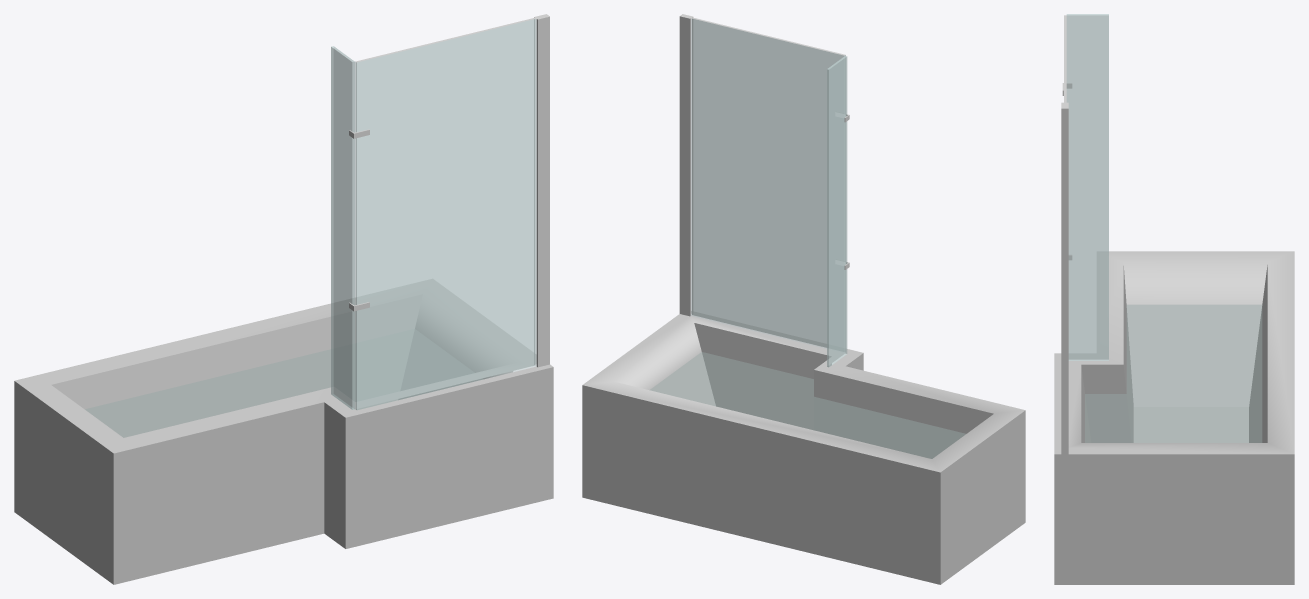
Rendered from sweethome3d-contributions-bath-l-shape-356.glb.
3 renders of one model, left to right at view 1: azimuth 30°, elevation 25°; view 2: azimuth 150°, elevation 25°; view 3: azimuth 270°, elevation 25°, orthographic. The views are drawn at different scales.
Visible parts, largest first — view 1: 1_1, 5_5, 2_2, 3_3, 6_6, 4_4; view 2: 1_1, 5_5, 2_2, 3_3, 6_6, 4_4; view 3: 1_1, 2_2, 3_3, 6_6.
Boxes of the visible parts, x1,y1,x2,y2 form: 1_1: [14, 279, 553, 584]; 5_5: [355, 19, 536, 410]; 2_2: [52, 294, 515, 437]; 3_3: [85, 343, 482, 437]; 6_6: [331, 46, 354, 409]; 4_4: [355, 14, 549, 367]; 1_1: [582, 311, 1025, 584]; 5_5: [691, 18, 845, 352]; 2_2: [614, 323, 993, 458]; 3_3: [650, 352, 965, 458]; 6_6: [827, 56, 847, 367]; 4_4: [679, 14, 845, 316]; 1_1: [1054, 108, 1294, 584]; 2_2: [1081, 262, 1267, 442]; 3_3: [1085, 304, 1262, 442]; 6_6: [1066, 14, 1108, 360].
Bounding box in the file's own units: 170 × 186 × 85.
